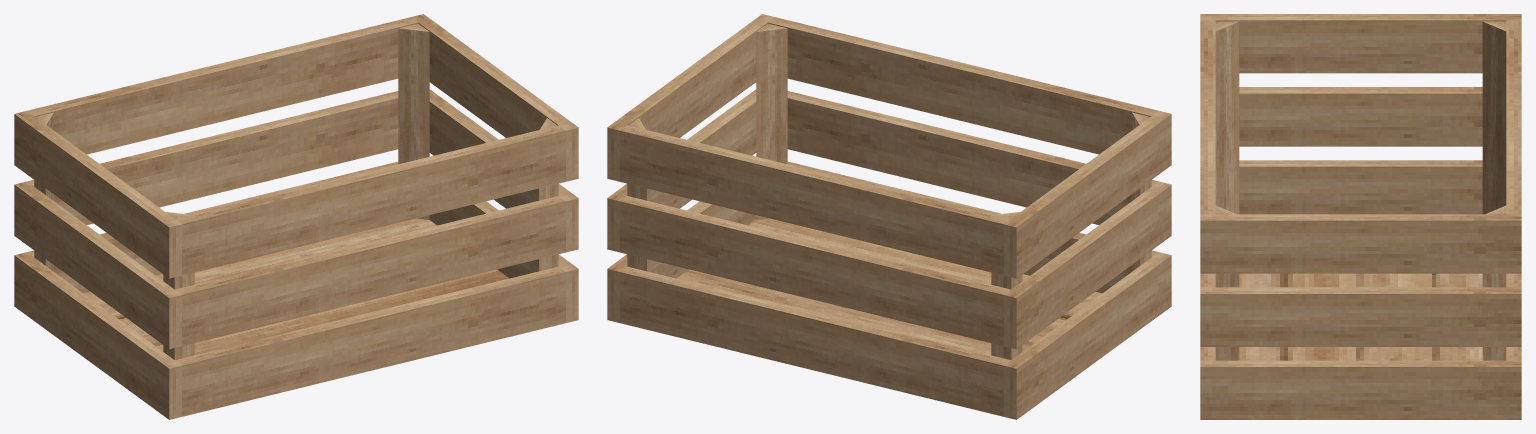
The model's file is small_crate.glb.
3 renders of one model, left to right at view 1: azimuth 30°, elevation 25°; view 2: azimuth 150°, elevation 25°; view 3: azimuth 270°, elevation 25°, orthographic. The views are drawn at different scales.
Visible parts, largest first — view 1: Plane; view 2: Plane; view 3: Plane.
Part boxes in pixels (x1=…): Plane: x1=14, y1=14, x2=578, y2=419; Plane: x1=607, y1=14, x2=1171, y2=419; Plane: x1=1200, y1=14, x2=1521, y2=419.
Size of the model in its own units: 0.32 by 0.1438 by 0.21.
1 material, 1 textured.
